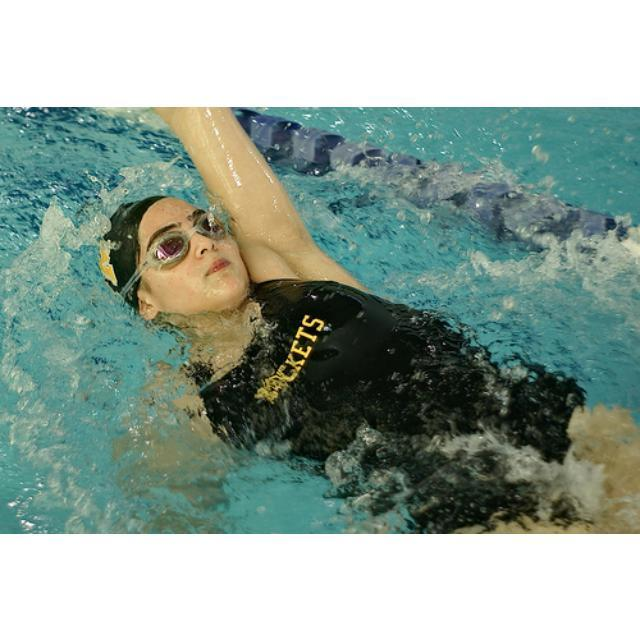human: (95, 108, 639, 534)
